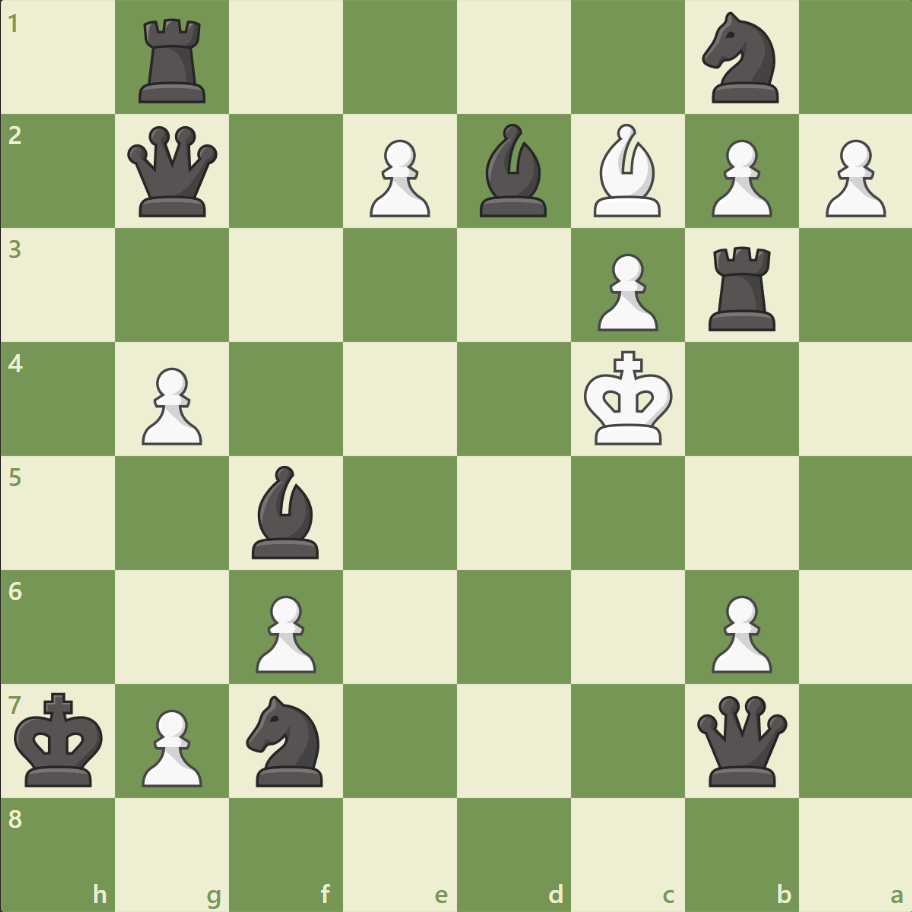B: (585, 120, 669, 222)
K: (579, 344, 679, 452)
P: (133, 700, 208, 791), (701, 586, 776, 677), (247, 586, 322, 677), (133, 359, 208, 450), (701, 132, 776, 223), (588, 246, 662, 337), (815, 132, 889, 223), (361, 132, 435, 223)
b: (244, 460, 328, 563), (471, 120, 555, 222)
k: (11, 685, 111, 793)
n: (238, 688, 335, 791), (692, 7, 789, 110)
q: (124, 122, 223, 222), (691, 690, 790, 789)
r: (700, 239, 783, 336), (133, 12, 215, 109)
